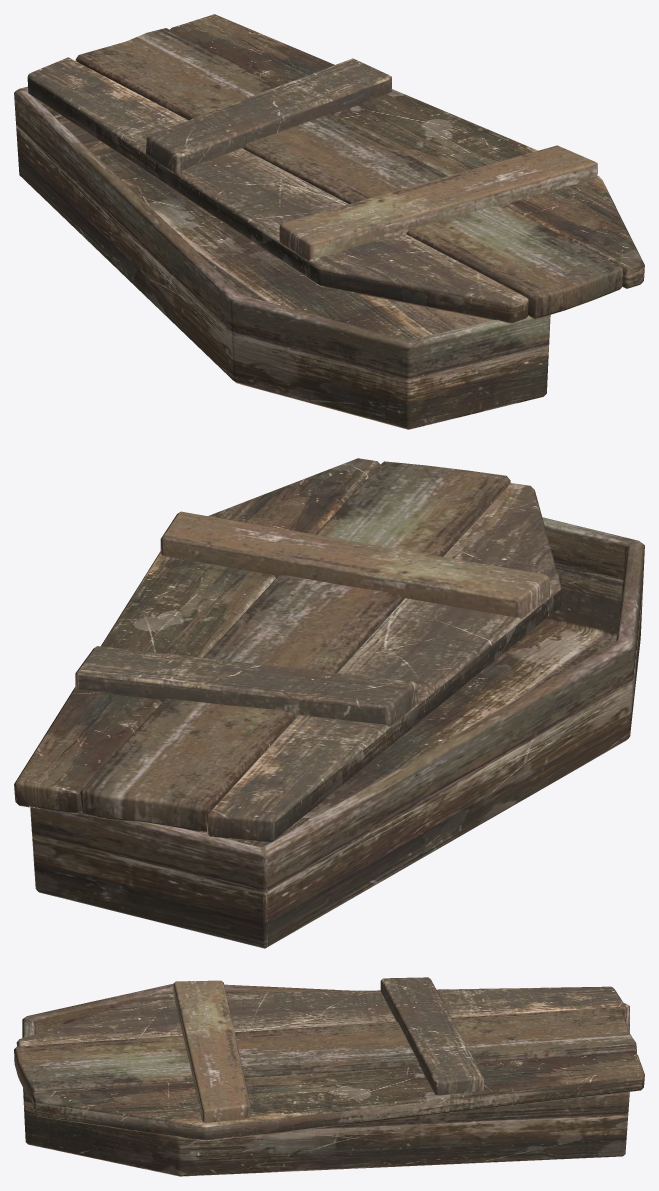
3 renders of one model, top to bottom at view 1: azimuth 30°, elevation 25°; view 2: azimuth 150°, elevation 25°; view 3: azimuth 270°, elevation 25°, orthographic. The views are drawn at different scales.
Visible parts, largest first — view 1: SM_Coffin_Wooden_Open_LOD0; view 2: SM_Coffin_Wooden_Open_LOD0; view 3: SM_Coffin_Wooden_Open_LOD0.
Boxes of the visible parts, bbox=[...] form: SM_Coffin_Wooden_Open_LOD0: bbox=[14, 14, 644, 429]; SM_Coffin_Wooden_Open_LOD0: bbox=[14, 458, 644, 948]; SM_Coffin_Wooden_Open_LOD0: bbox=[14, 977, 644, 1176].
Size of the model in its own units: 1.43 by 0.4426 by 2.42.
1 material, 1 textured.
